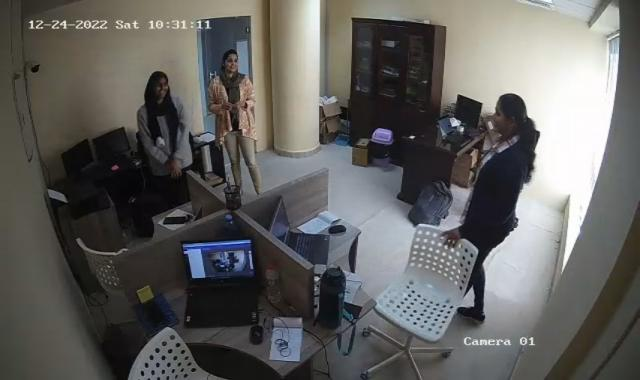no_hairnet: (487, 91, 532, 137), (142, 73, 172, 100), (222, 50, 241, 74)
